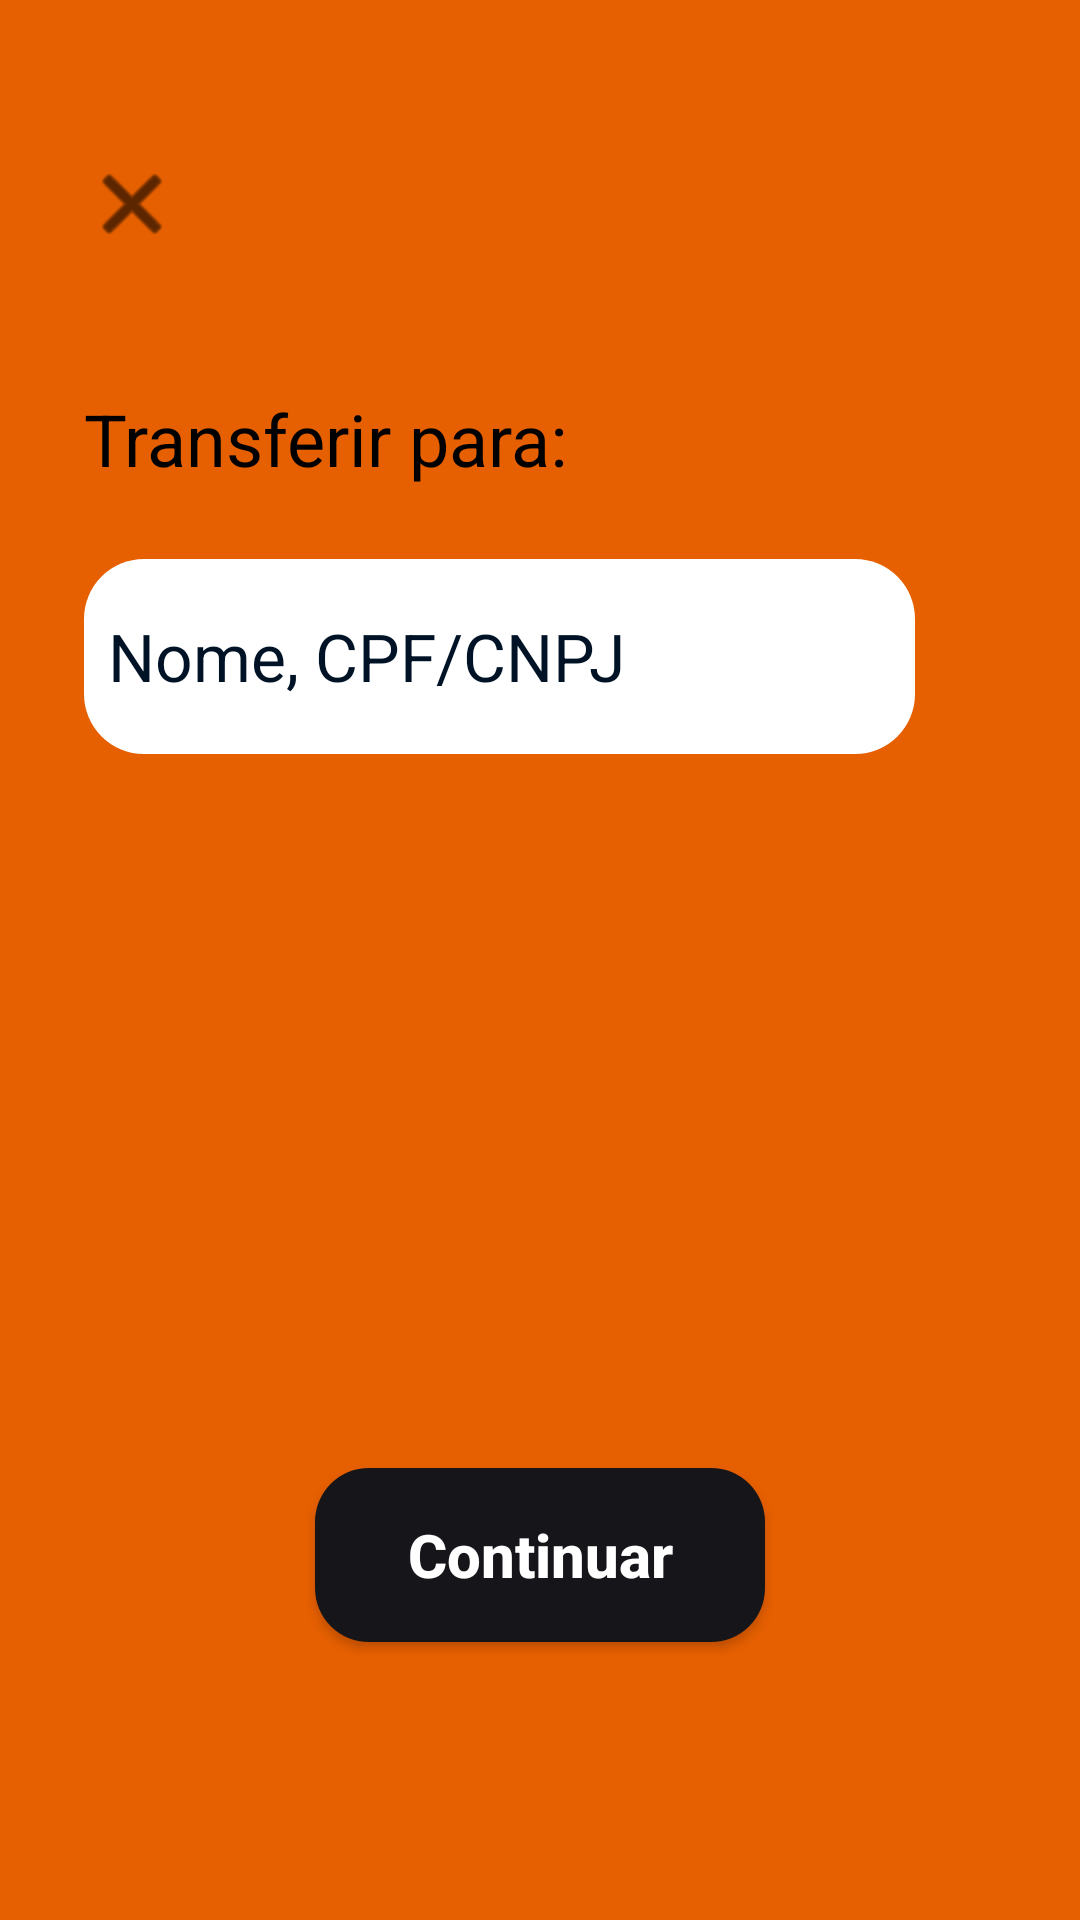

Where to tap for icons on this 1080px x 1920px app screen, as (x=x, y=y):
Fechar: (x=132, y=204)
